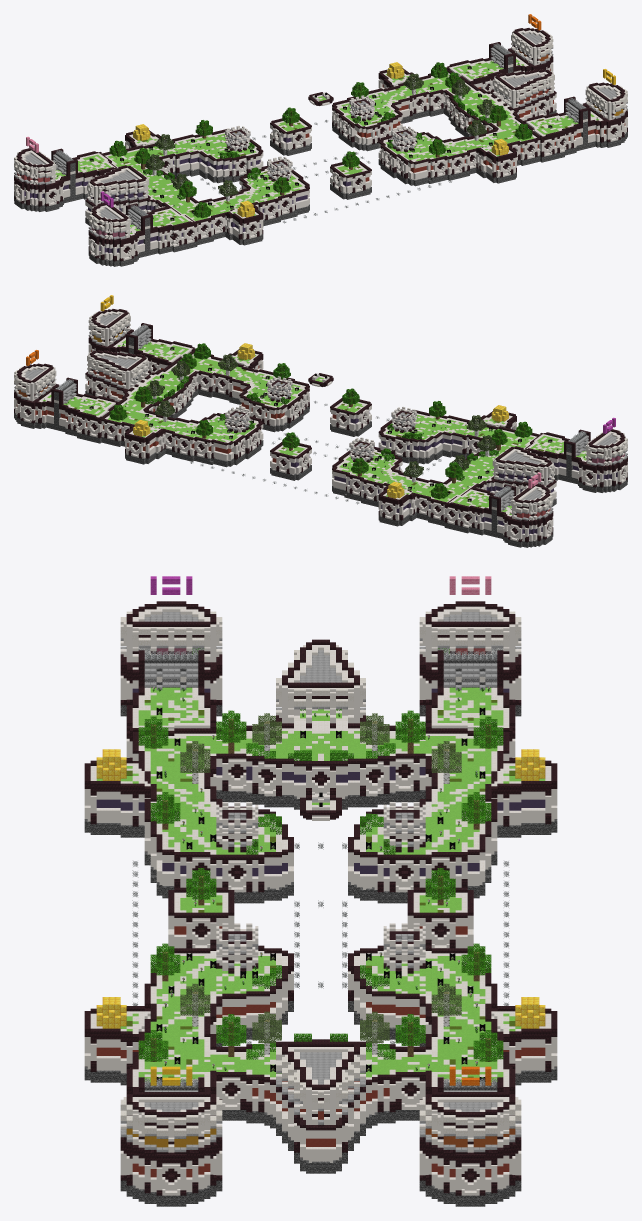
Rendered from minecraft.obj.
3 renders of one model, top to bottom at view 1: azimuth 30°, elevation 25°; view 2: azimuth 150°, elevation 25°; view 3: azimuth 270°, elevation 25°, orthographic. The views are drawn at different scales.
Bounding box in the file's own units: 205 × 27.52 × 79.
